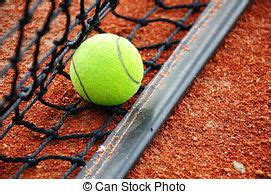tennis_ball: (68, 33, 143, 104)
